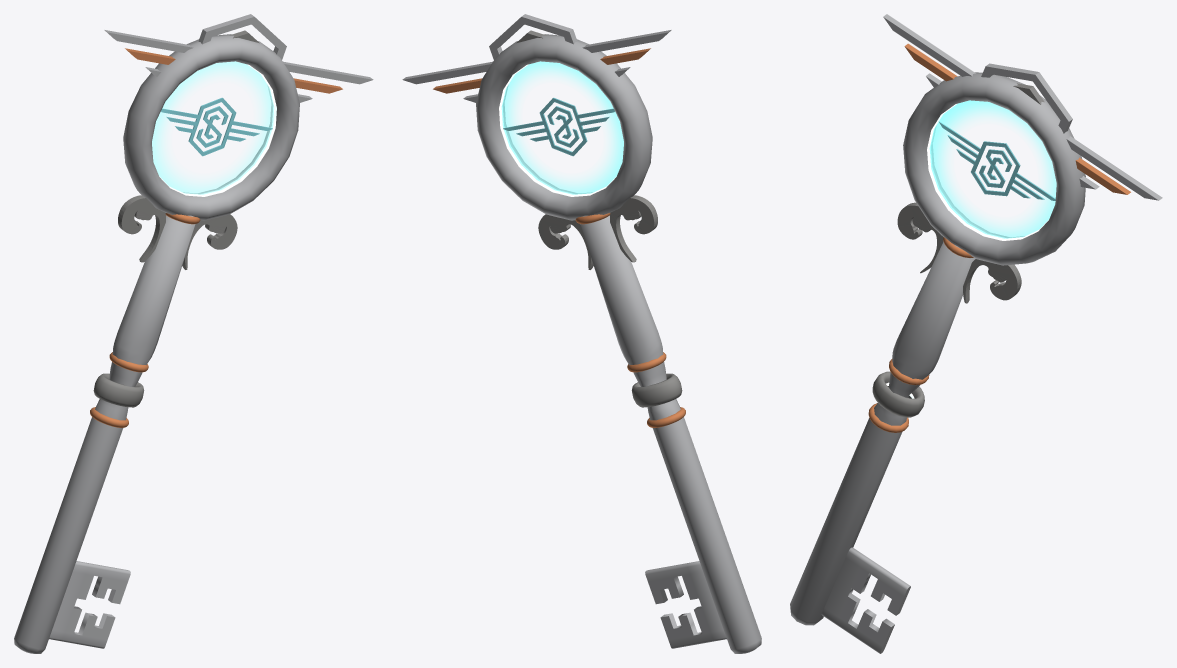
The model's file is SpaceKey_Norm.glb.
3 renders of one model, left to right at view 1: azimuth 30°, elevation 25°; view 2: azimuth 150°, elevation 25°; view 3: azimuth 330°, elevation 25°, orthographic. The views are drawn at different scales.
Parts seen in each view (by area): view 1: Cylinder.002, CircleBlendAlpha.001, Cylinder.003; view 2: Cylinder.002, CircleBlendAlpha.001, Cylinder.003; view 3: Cylinder.002, CircleBlendAlpha.001, Cylinder.003.
Boxes of the visible parts, left/top/right/bottom form: Cylinder.002: left=14, top=14, right=373, bottom=653; CircleBlendAlpha.001: left=152, top=61, right=274, bottom=194; Cylinder.003: left=49, top=561, right=130, bottom=648; Cylinder.002: left=402, top=14, right=761, bottom=653; CircleBlendAlpha.001: left=501, top=61, right=623, bottom=194; Cylinder.003: left=645, top=561, right=726, bottom=648; Cylinder.002: left=790, top=14, right=1162, bottom=625; CircleBlendAlpha.001: left=929, top=100, right=1056, bottom=238; Cylinder.003: left=821, top=547, right=910, bottom=653.
Size of the model in its own units: 0.5286 by 0.8764 by 0.0531.
Materials: 6 (1 with a texture image).
